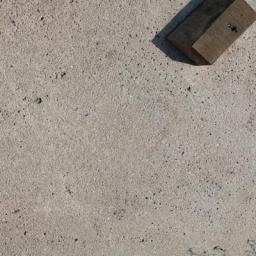FOD: (154, 1, 256, 73)
